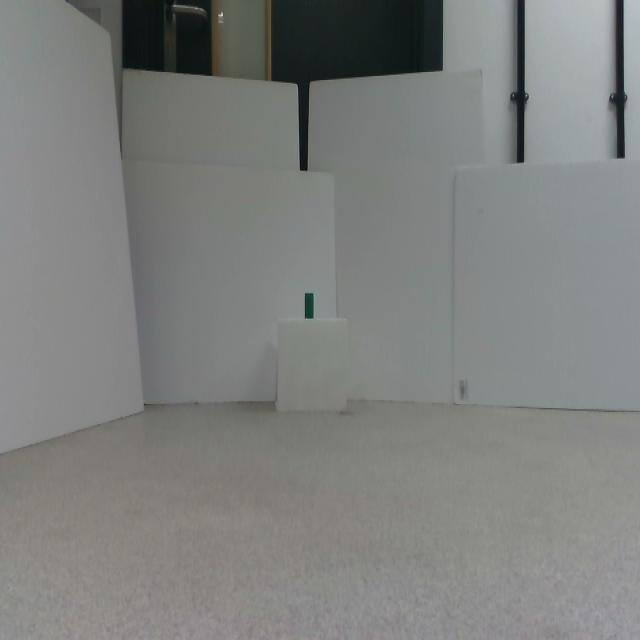green_cylinder: (305, 293, 314, 319)
